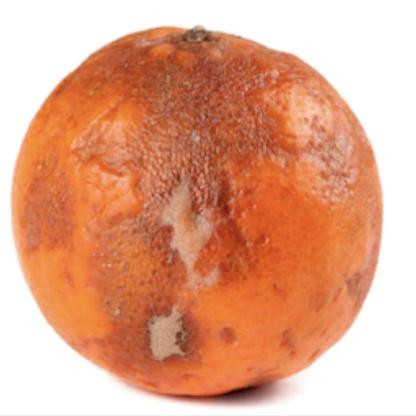rotten: (15, 29, 384, 398)
